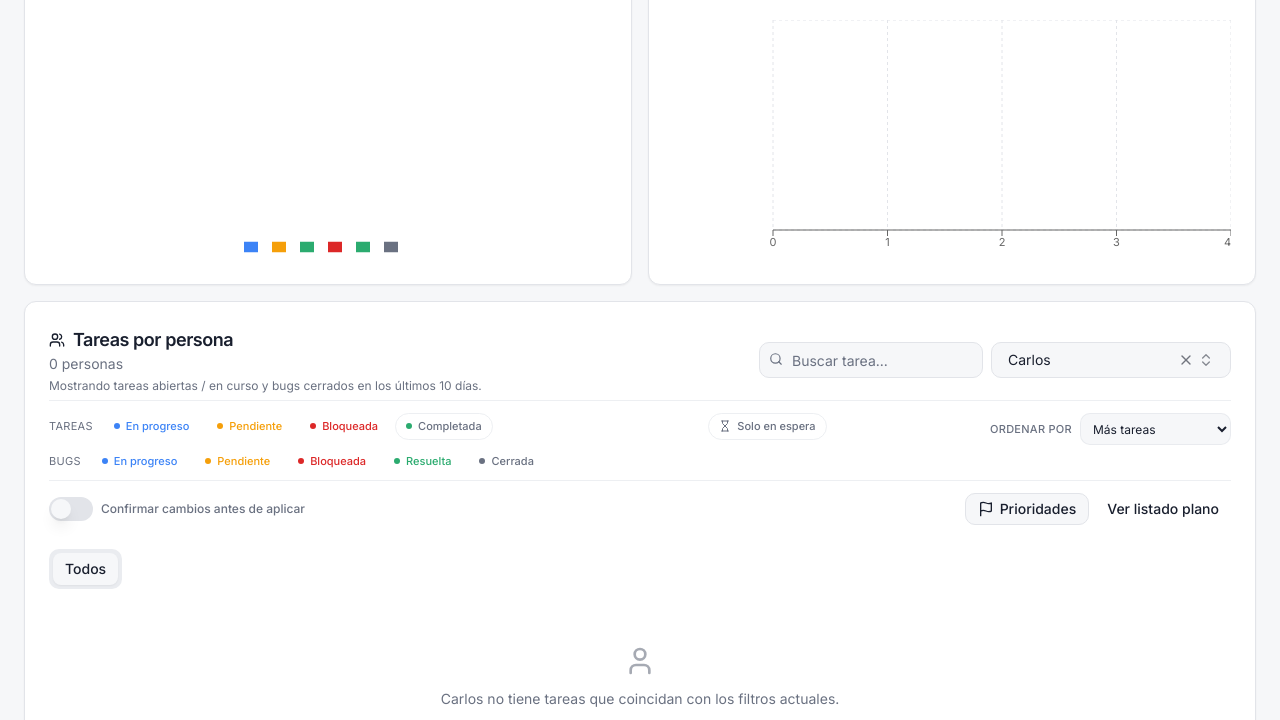
Test case: Tasks page — empty-state message updates as user types (debounced) › updates the message for a person + search combination
(page scrolled)
Type "zzznopersonmatch" into the field with placeholder "Buscar tarea..." at (871, 360), box [759,342,983,378]
(page scrolled)
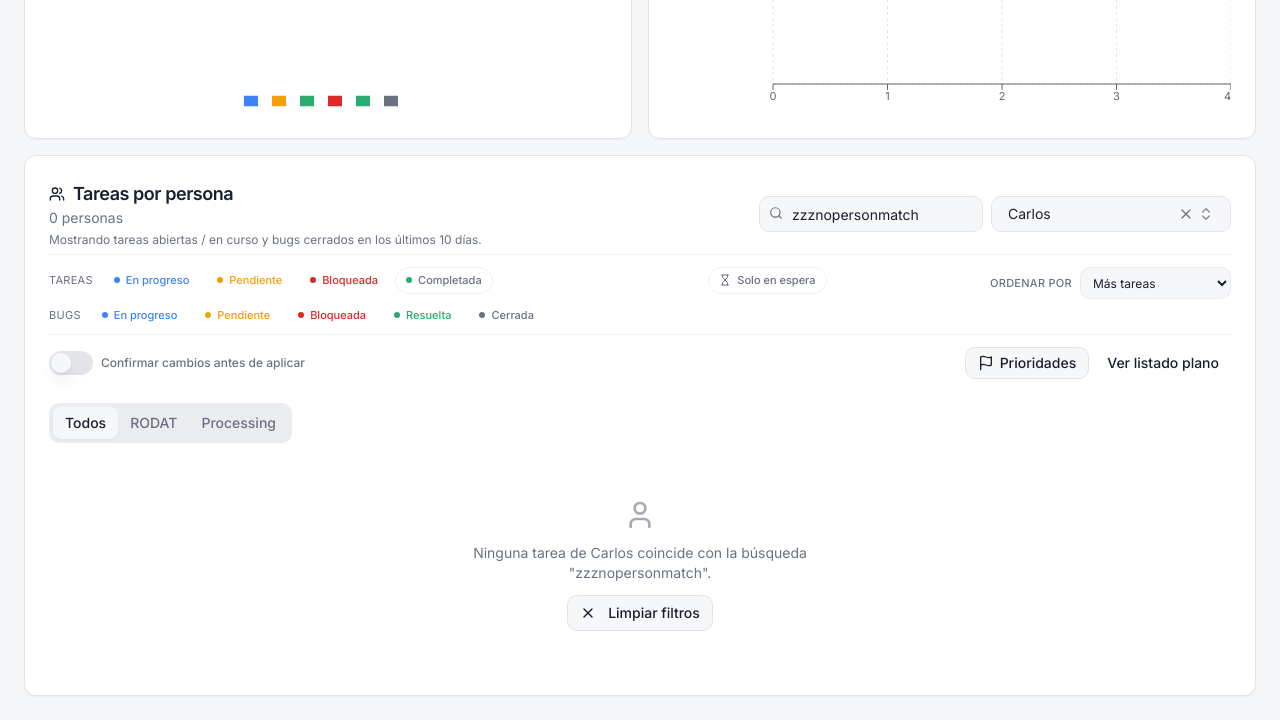
Expected: the message shows "Carlos", [473,544,807,581]
Expected: the message shows "zzznopersonmatch", [473,544,807,581]
